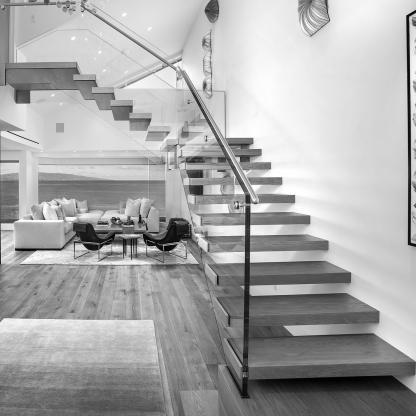chair: (138, 214, 194, 267), (67, 219, 118, 266)
stair: (180, 123, 416, 390)
